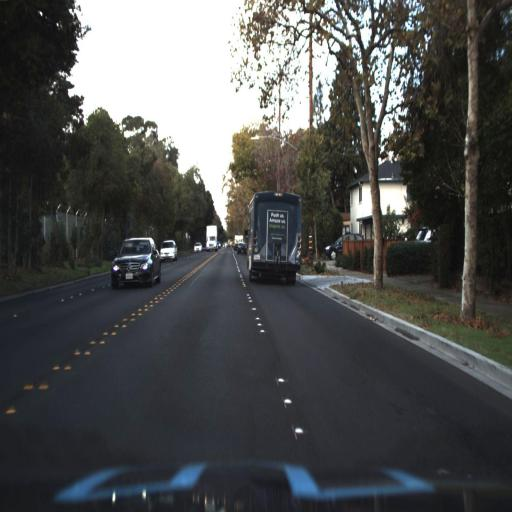car: (110, 234, 163, 290), (158, 237, 182, 264)
truck: (240, 187, 304, 286)
